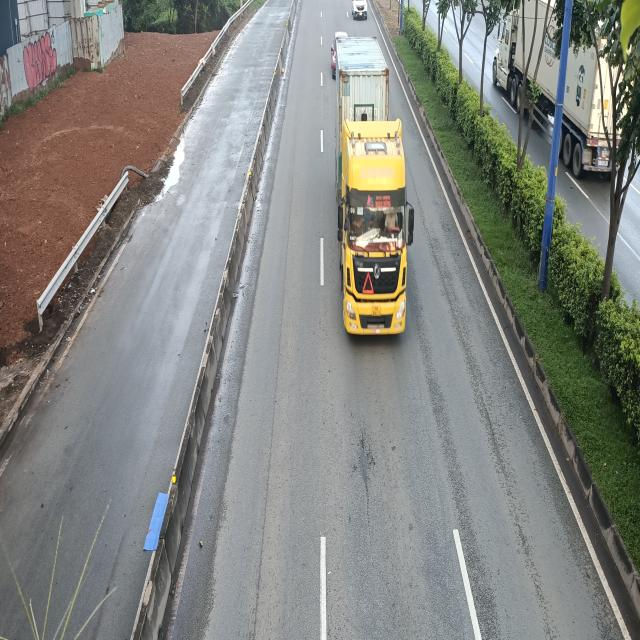container: (337, 31, 419, 336)
